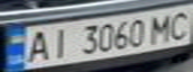0: (127, 16, 151, 47), (97, 20, 118, 53)
3: (75, 21, 100, 55)
6: (112, 18, 133, 51)
A: (21, 27, 54, 64)
C: (163, 7, 193, 40)
I: (45, 25, 75, 60)
M: (145, 11, 178, 44)
